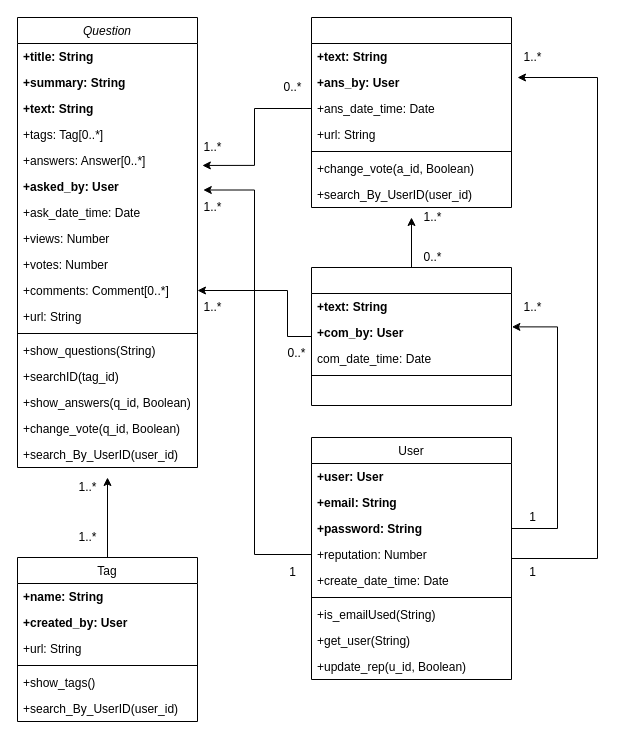
This 623x742 diagram has some shape labels left out. Here are the shapes that lost their labels. From the top down, the box of each, then its label:
(310, 16, 512, 208): Answer
(310, 266, 512, 406): Comment
